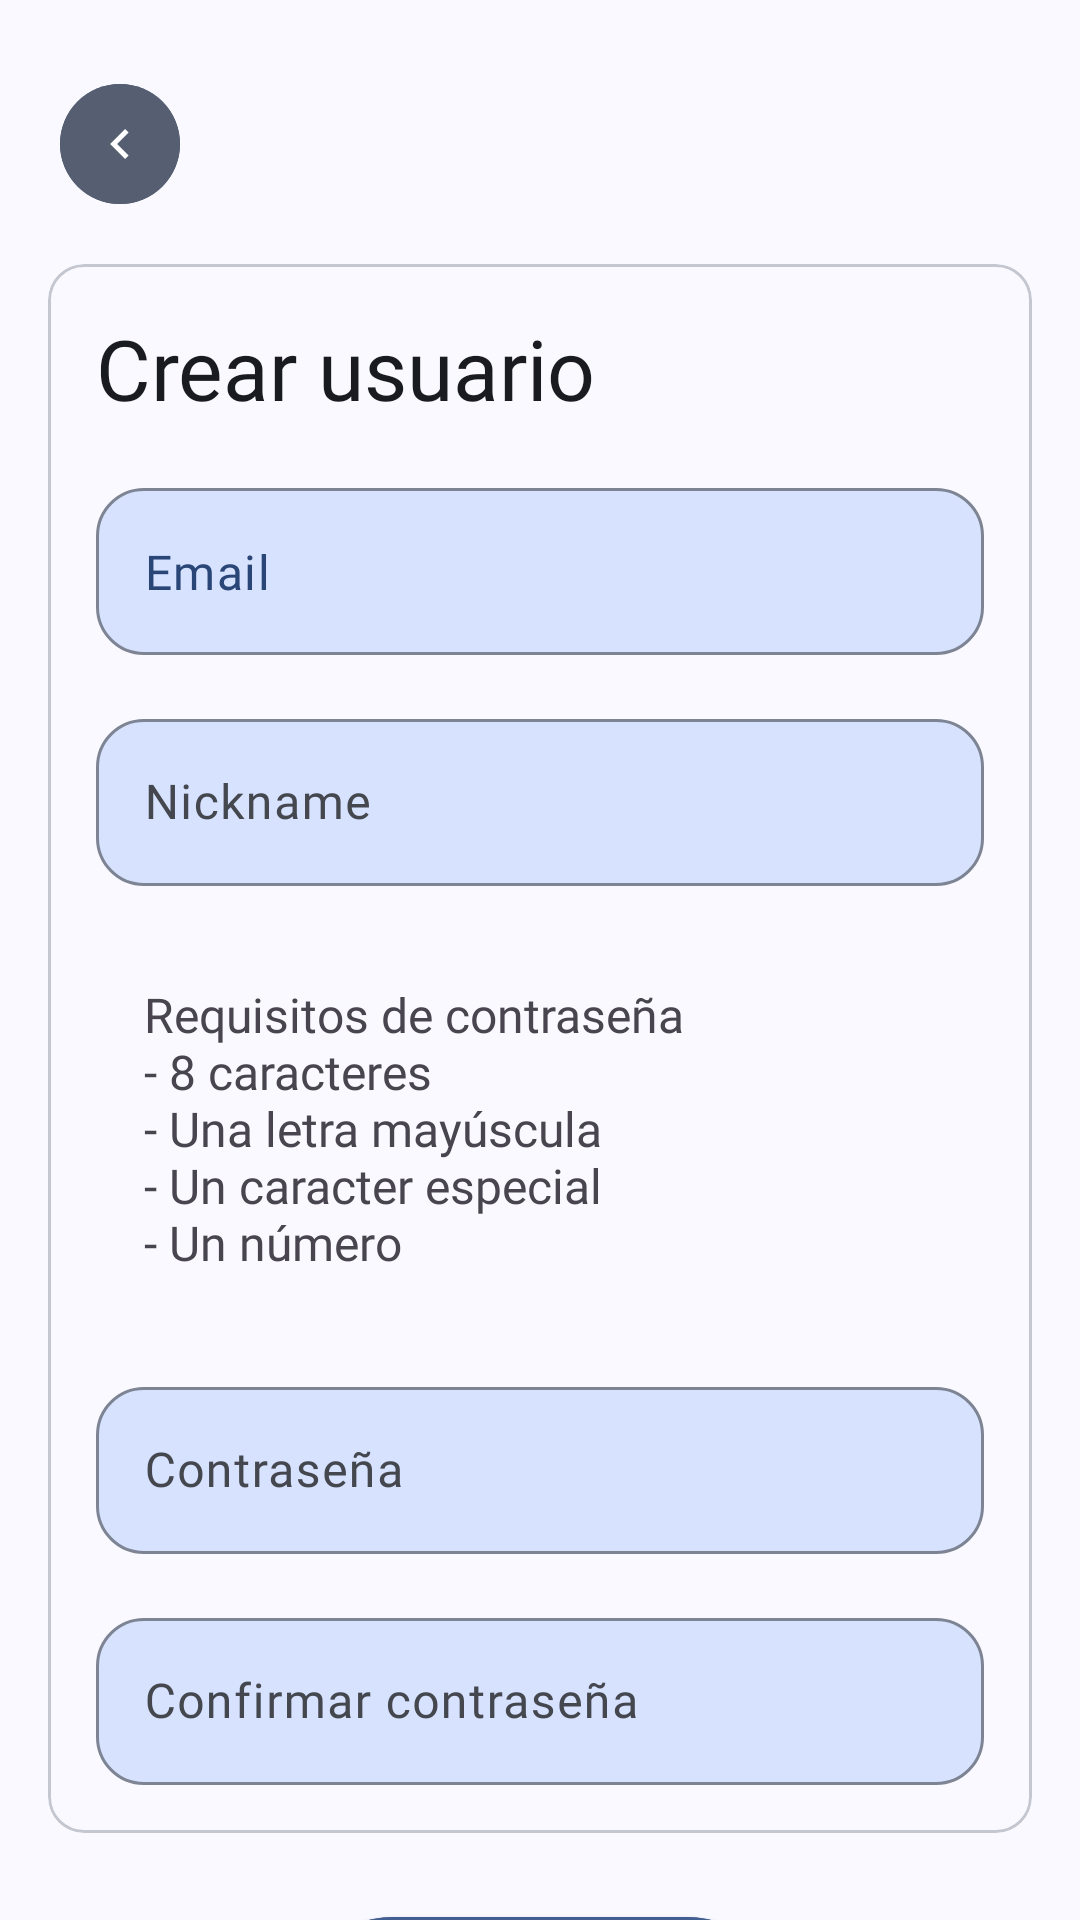

Named icons in this screenshot (1080*1920) and their bounding boxes, (x1, y1, x2, y2):
chevron backward: (60, 84, 180, 204)
